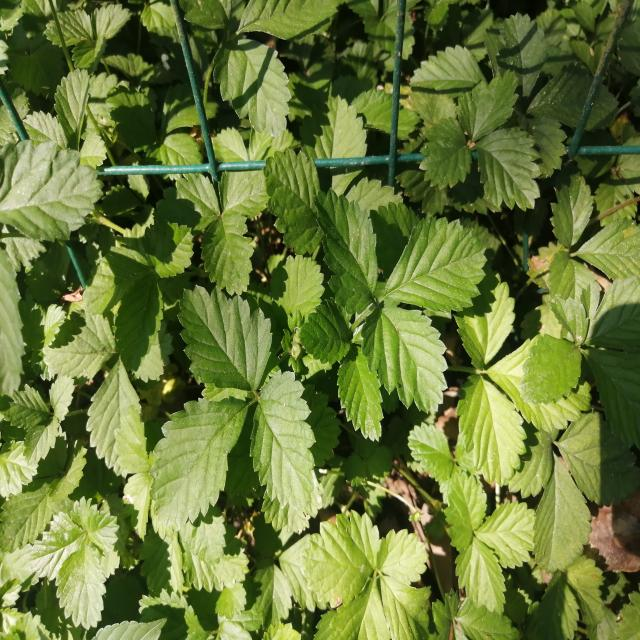Mock_strawberry: (138, 242, 335, 524), (476, 267, 640, 505), (297, 195, 476, 398)
